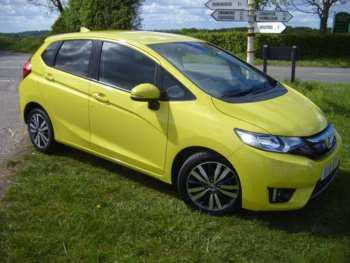Hatchback: (15, 26, 348, 224)
